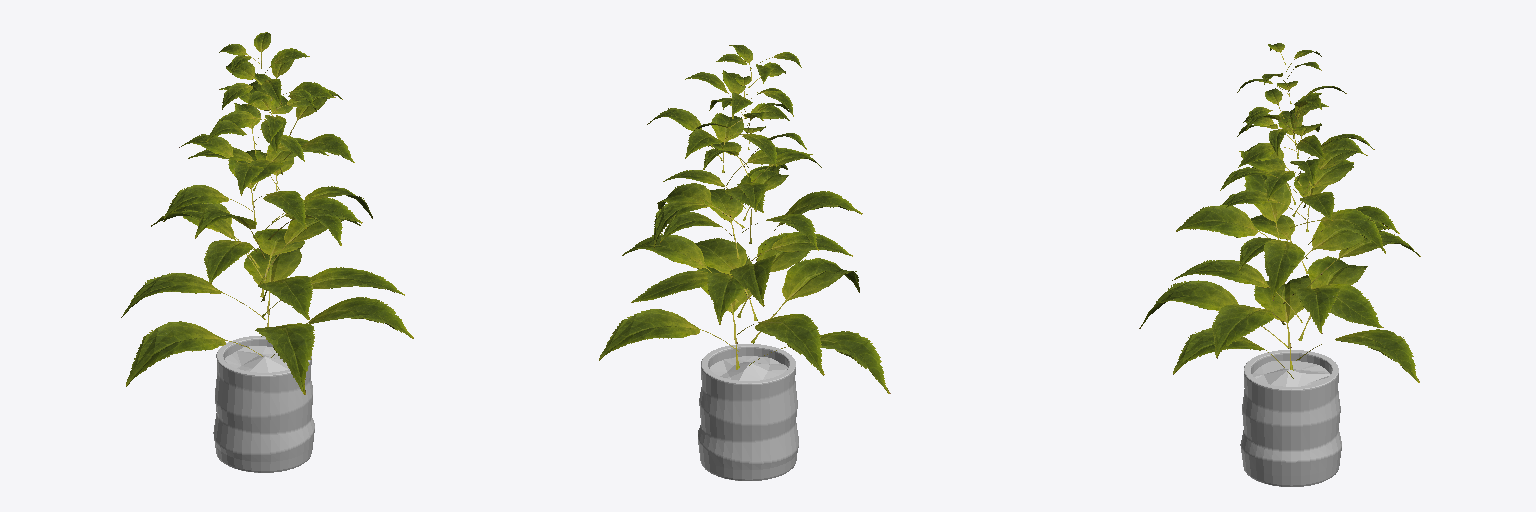
The picture shows the model from 3 angles: view 1: azimuth 30°, elevation 25°; view 2: azimuth 150°, elevation 25°; view 3: azimuth 270°, elevation 25°; orthographic projection.
Parts seen in each view (by area): view 1: FEUILLE, FEUILLE.003, Test, Circle.001; view 2: FEUILLE, FEUILLE.003, Test, Circle.001; view 3: FEUILLE, FEUILLE.003, Test, Circle.001.
Boxes of the visible parts, x1,y1,x2,y2 form: FEUILLE: [126, 32, 404, 394]; FEUILLE.003: [121, 73, 413, 357]; Test: [213, 336, 314, 472]; Circle.001: [225, 346, 288, 372]; FEUILLE: [631, 45, 890, 393]; FEUILLE.003: [599, 76, 852, 375]; Test: [698, 344, 798, 480]; Circle.001: [710, 356, 787, 380]; FEUILLE: [1139, 43, 1388, 370]; FEUILLE.003: [1172, 88, 1420, 382]; Test: [1240, 350, 1341, 486]; Circle.001: [1252, 361, 1330, 386].
Bounding box in the file's own units: 0.574 × 0.841 × 0.5498.
Materials: 4 (1 with a texture image).